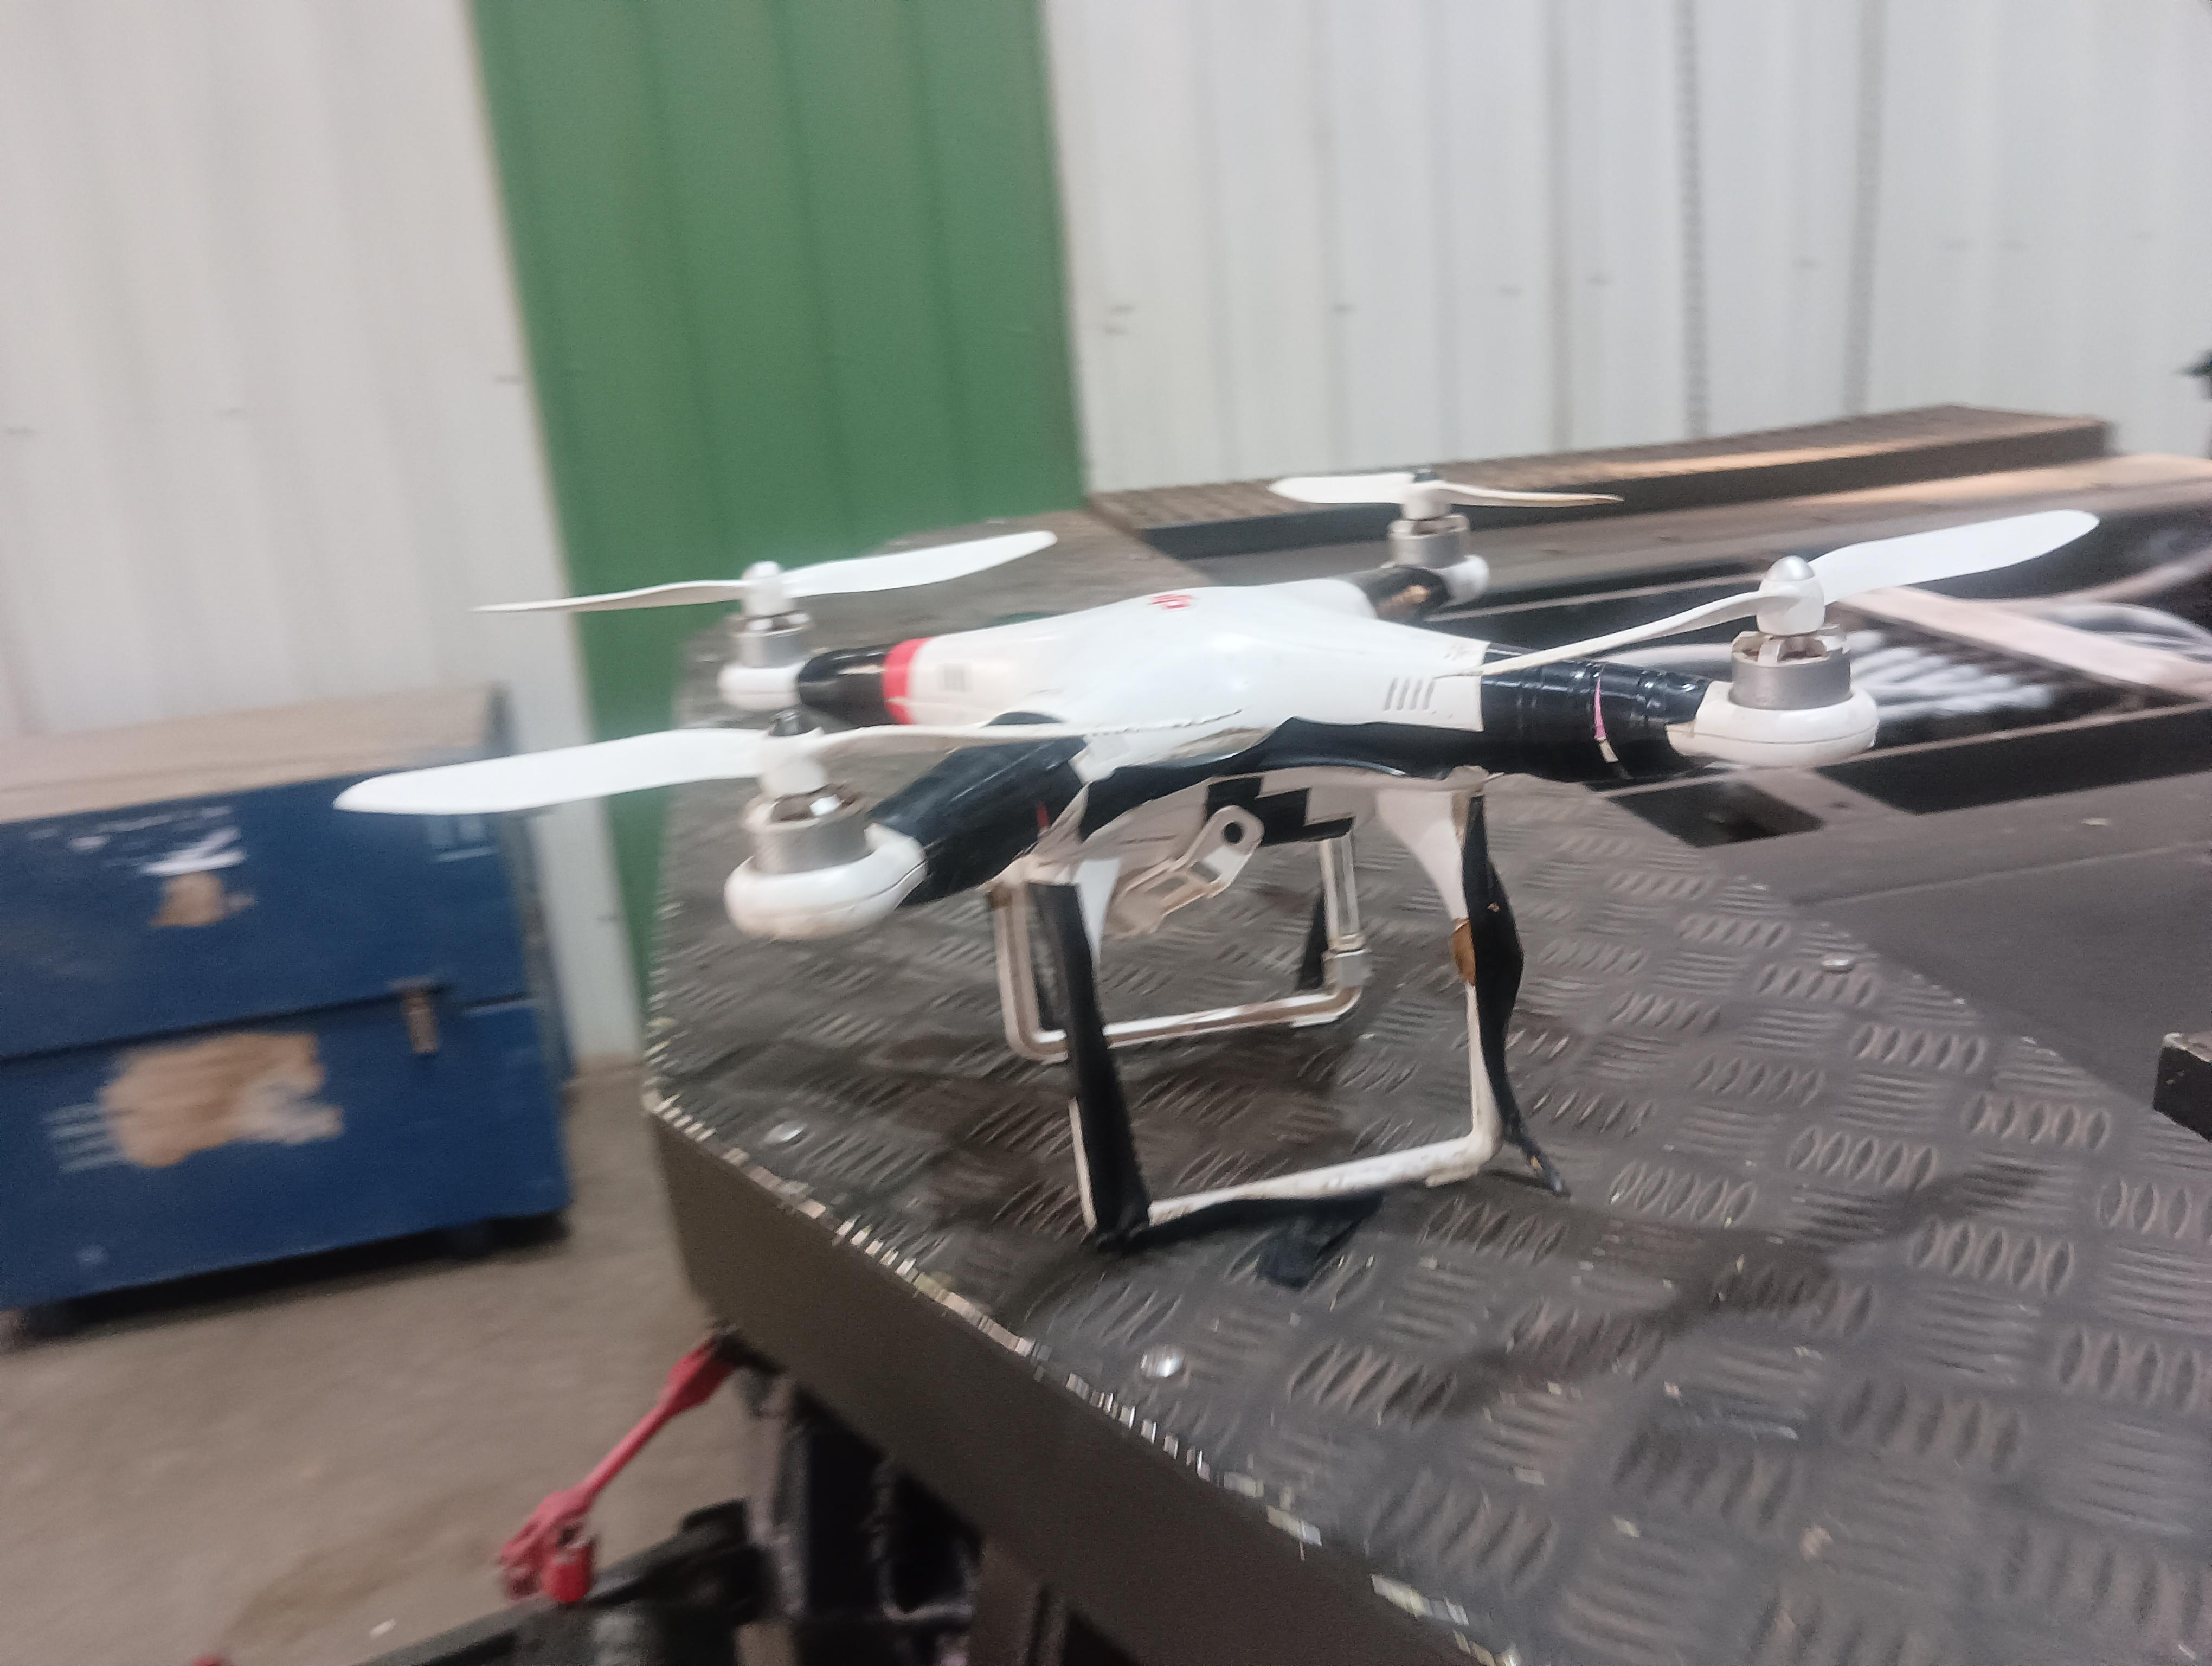drone: (322, 441, 2212, 1316)
